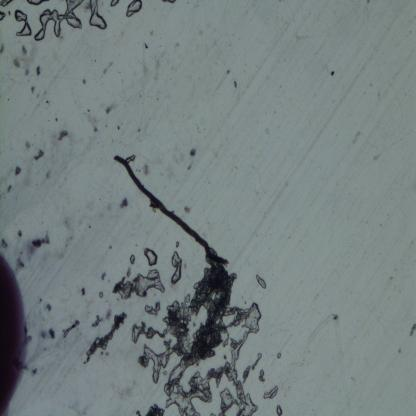Air bubble: (34, 0, 86, 43), (113, 268, 167, 300), (88, 0, 108, 32), (14, 9, 32, 40), (170, 250, 184, 284), (125, 0, 142, 19), (143, 247, 158, 268), (262, 385, 278, 400), (256, 275, 268, 290), (27, 0, 44, 6), (0, 0, 13, 7), (275, 405, 284, 415), (110, 0, 120, 9), (0, 10, 5, 22)
Background material: (164, 300, 262, 415), (163, 262, 235, 365), (82, 313, 127, 366), (309, 311, 347, 369), (134, 341, 174, 379), (9, 225, 37, 272), (128, 326, 158, 347), (82, 108, 104, 135), (60, 318, 82, 342), (28, 231, 49, 254), (144, 401, 164, 415), (144, 304, 161, 320), (38, 329, 56, 343), (188, 141, 198, 162), (117, 195, 131, 210), (42, 300, 56, 315), (324, 64, 337, 78), (57, 128, 68, 144), (34, 146, 44, 163), (0, 234, 10, 251), (12, 162, 23, 177), (180, 203, 192, 216), (126, 254, 137, 268), (94, 288, 106, 300), (20, 42, 29, 58), (104, 104, 118, 114), (43, 168, 54, 180), (12, 56, 21, 69), (232, 76, 240, 90), (27, 84, 35, 98), (142, 40, 152, 51), (410, 322, 416, 339), (0, 41, 8, 53), (35, 64, 42, 77), (80, 284, 86, 298), (100, 271, 108, 281), (5, 185, 14, 192), (277, 353, 282, 360), (83, 78, 87, 85)
Microfibre: (113, 157, 228, 267)
Pen: (0, 253, 31, 416)
